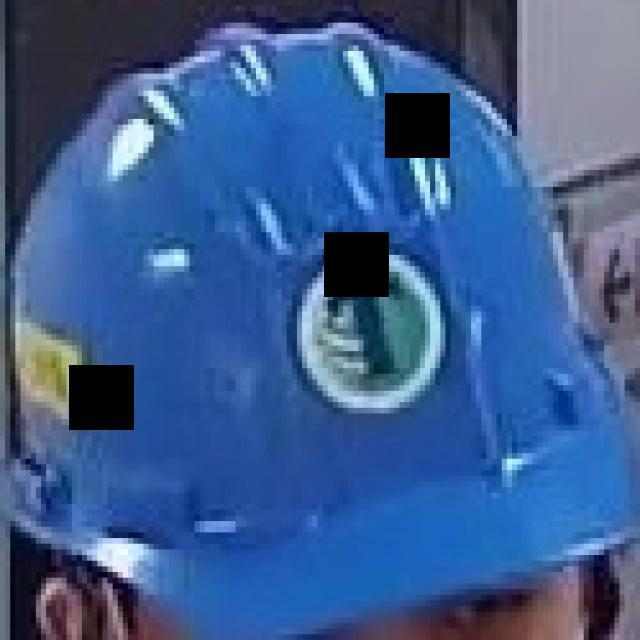blue helmet: (8, 20, 640, 640)
